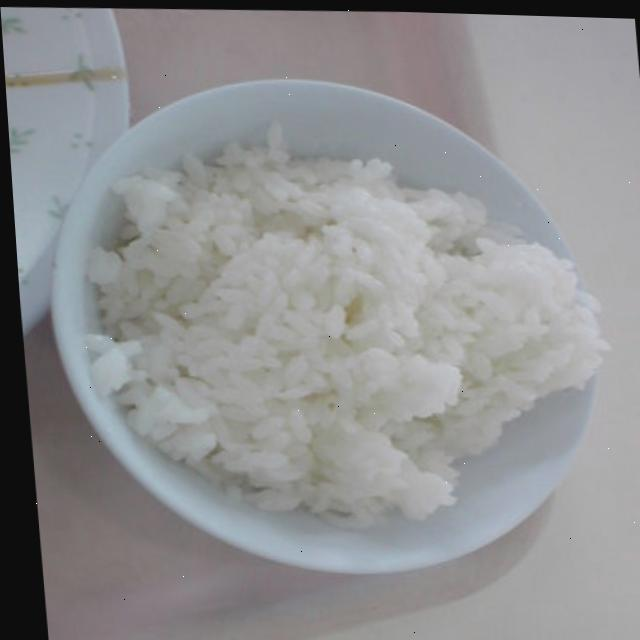米饭主食: (14, 85, 623, 587)
